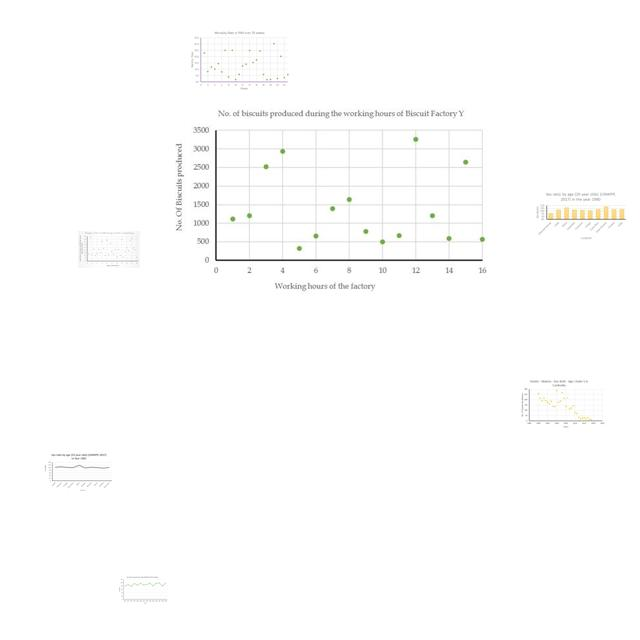Graph: (170, 103, 493, 297), (190, 30, 291, 90), (533, 190, 628, 241), (519, 378, 606, 430), (44, 452, 113, 492), (78, 231, 140, 268), (118, 575, 169, 605)
